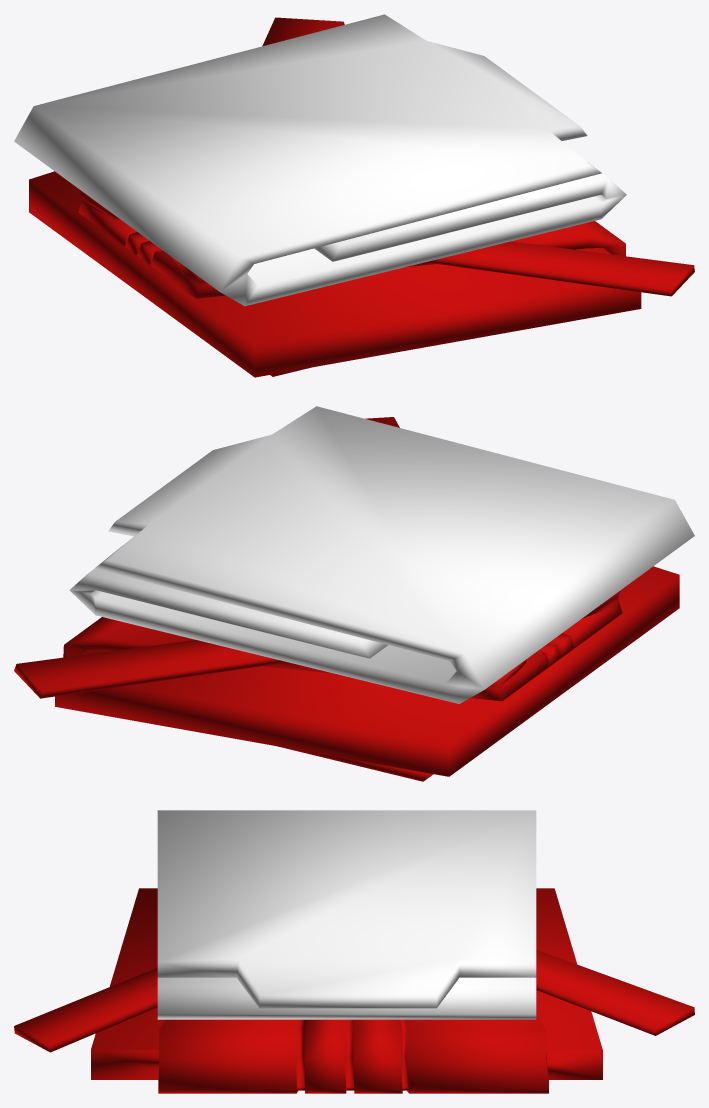
Rendered from mikofuku08030449.fbx.
3 views of the same model, one above another, from view 1: azimuth 30°, elevation 25°; view 2: azimuth 150°, elevation 25°; view 3: azimuth 270°, elevation 25° (orthographic). The views are drawn at different scales.
Parts seen in each view (by area): view 1: 立方体, Cube; view 2: 立方体, Cube; view 3: 立方体, Cube.
Boxes of the visible parts, <box> form: 立方体: <box>14,14,626,306</box>; Cube: <box>29,17,694,377</box>; 立方体: <box>69,406,694,703</box>; Cube: <box>14,417,679,781</box>; 立方体: <box>157,810,536,1019</box>; Cube: <box>14,888,694,1093</box>.
Size of the model in its own units: 237 by 74.79 by 360.
